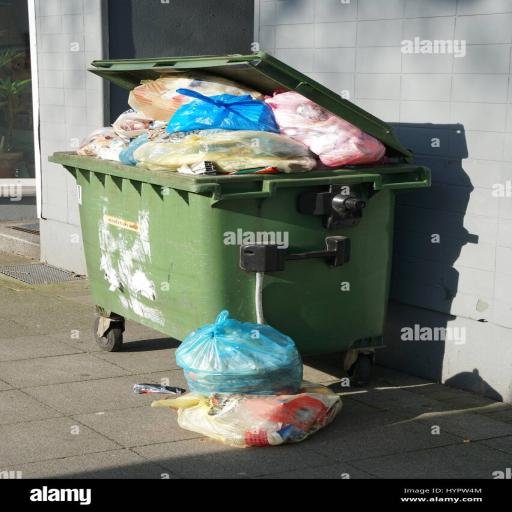Detector-de-basura: (152, 381, 341, 447)
